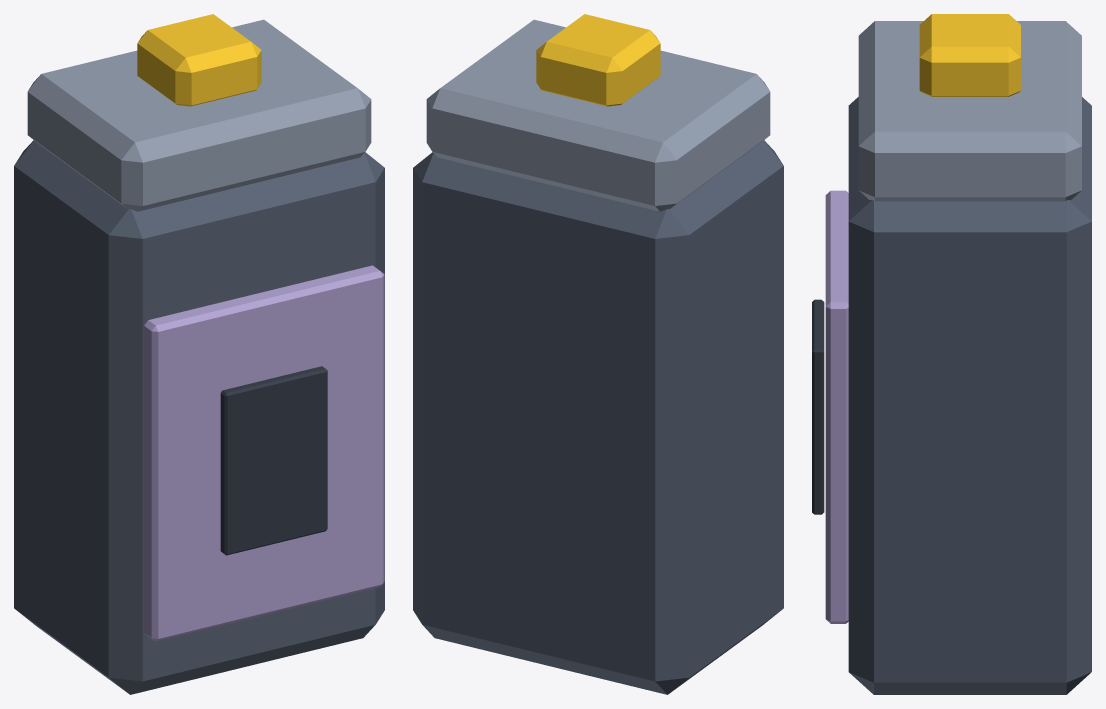
Rendered from Throwable_EMP_v003.fbx.
3 views of the same model, side by side, from view 1: azimuth 30°, elevation 25°; view 2: azimuth 150°, elevation 25°; view 3: azimuth 270°, elevation 25° (orthographic).
Parts seen in each view (by area): view 1: Throwable_EMP__RECEIVER_MESH; view 2: Throwable_EMP__RECEIVER_MESH; view 3: Throwable_EMP__RECEIVER_MESH.
Boxes of the visible parts, left/top/right/bottom form: Throwable_EMP__RECEIVER_MESH: left=14, top=14, right=384, bottom=694; Throwable_EMP__RECEIVER_MESH: left=413, top=14, right=783, bottom=694; Throwable_EMP__RECEIVER_MESH: left=812, top=14, right=1091, bottom=694.
Bounding box in the file's own units: 0.32 × 0.66 × 0.276.
